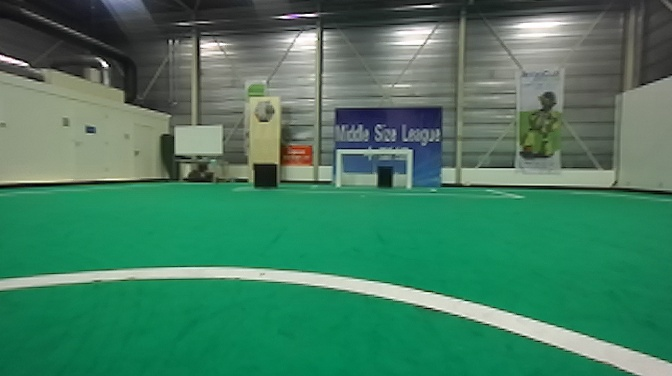goalpost: (403, 144, 414, 192), (335, 149, 345, 190)
